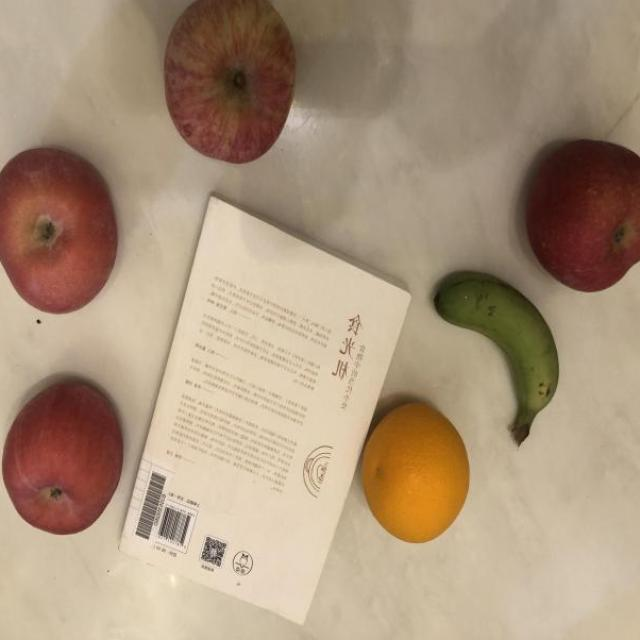Apple: (151, 0, 316, 169), (0, 128, 116, 315), (0, 375, 124, 544), (526, 127, 640, 296)
Banana: (426, 252, 574, 461)
Book: (106, 207, 408, 640)
Orange: (353, 397, 476, 546)
